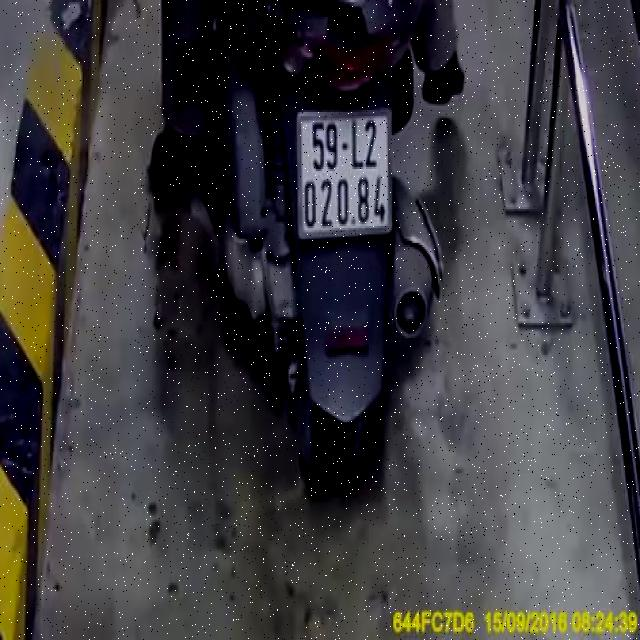0: (303, 179, 318, 229), (336, 179, 348, 227)
2: (319, 178, 333, 232), (364, 120, 378, 170)
4: (372, 177, 386, 224)
5: (311, 122, 325, 172)
8: (358, 178, 370, 224)
9: (325, 122, 339, 172)
L: (350, 119, 366, 170)
